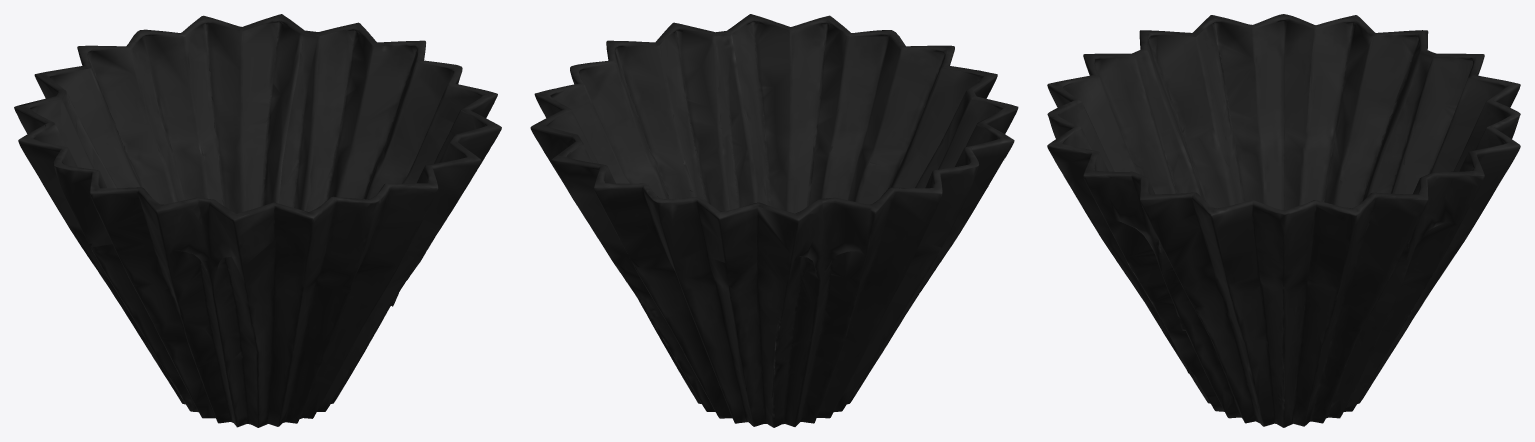
File: espiral.glb
3 views of the same model, side by side, from view 1: azimuth 30°, elevation 25°; view 2: azimuth 150°, elevation 25°; view 3: azimuth 270°, elevation 25° (orthographic).
Visible parts, largest first — view 1: Mesh_0; view 2: Mesh_0; view 3: Mesh_0.
Boxes of the visible parts, x1,y1,x2,y2 form: Mesh_0: [14, 14, 501, 427]; Mesh_0: [530, 14, 1018, 427]; Mesh_0: [1047, 14, 1520, 427].
Bounding box in the file's own units: 1.9 × 1.24 × 1.9.
1 material, 1 textured.
